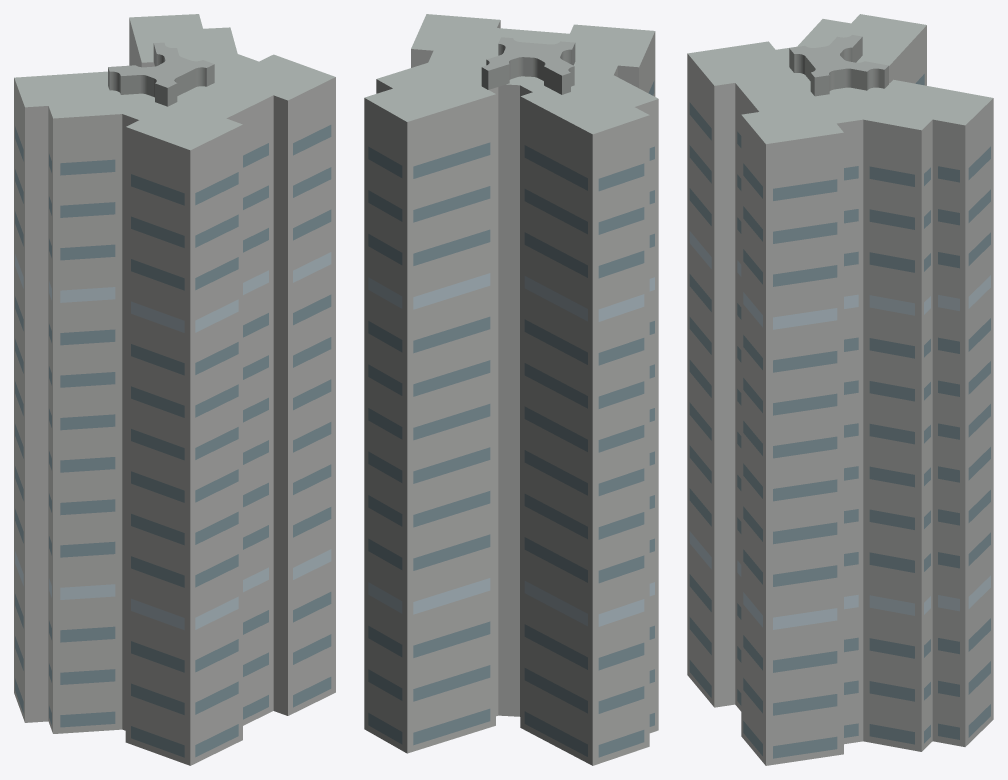
The model's file is fallback-banpo-xi-109.glb.
The picture shows the model from 3 angles, left to right: view 1: azimuth 30°, elevation 25°; view 2: azimuth 150°, elevation 25°; view 3: azimuth 270°, elevation 25°; orthographic projection. The views are drawn at different scales.
Parts seen in each view (by area): view 1: fallback-banpo-xi-109; view 2: fallback-banpo-xi-109; view 3: fallback-banpo-xi-109.
Boxes of the visible parts, x1,y1,x2,y2 form: fallback-banpo-xi-109: (14, 14, 335, 765); fallback-banpo-xi-109: (364, 14, 658, 765); fallback-banpo-xi-109: (687, 14, 993, 765).
Size of the model in its own units: 35.31 by 81 by 35.06.
